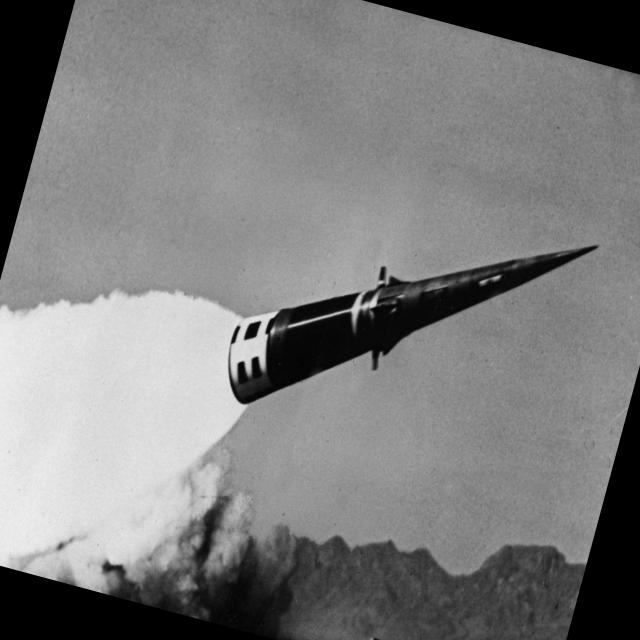rocket: (133, 135, 602, 529)
